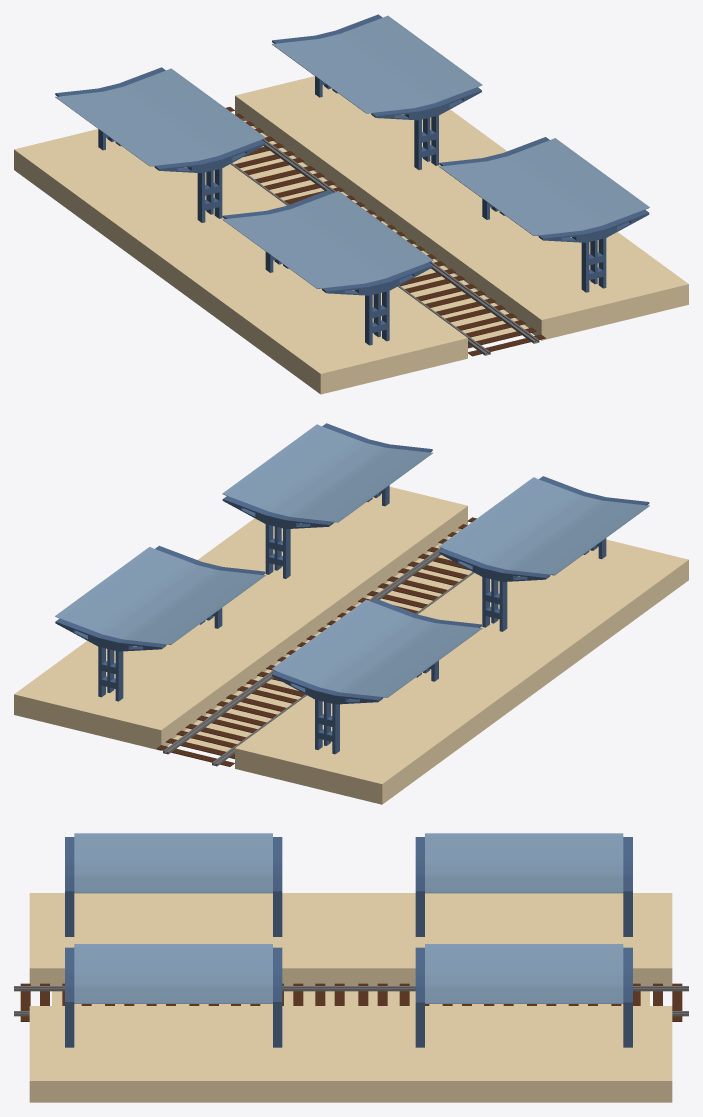
Rendered from infrastructure-building-train-station.fbx.
3 views of the same model, one above another, from view 1: azimuth 30°, elevation 25°; view 2: azimuth 150°, elevation 25°; view 3: azimuth 270°, elevation 25° (orthographic). The views are drawn at different scales.
Visible parts, largest first — view 1: infrastructure-building-train-station; view 2: infrastructure-building-train-station; view 3: infrastructure-building-train-station.
Boxes of the visible parts, <box> form: infrastructure-building-train-station: <box>14,14,688,394</box>; infrastructure-building-train-station: <box>14,423,688,804</box>; infrastructure-building-train-station: <box>14,833,688,1102</box>.
Size of the model in its own units: 22.38 by 5 by 33.92.
